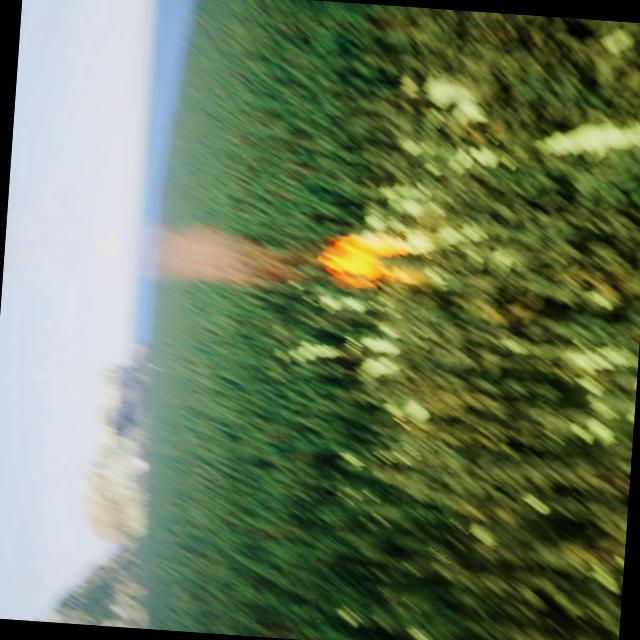fire: (316, 234, 404, 289)
smoke: (134, 218, 302, 291)
